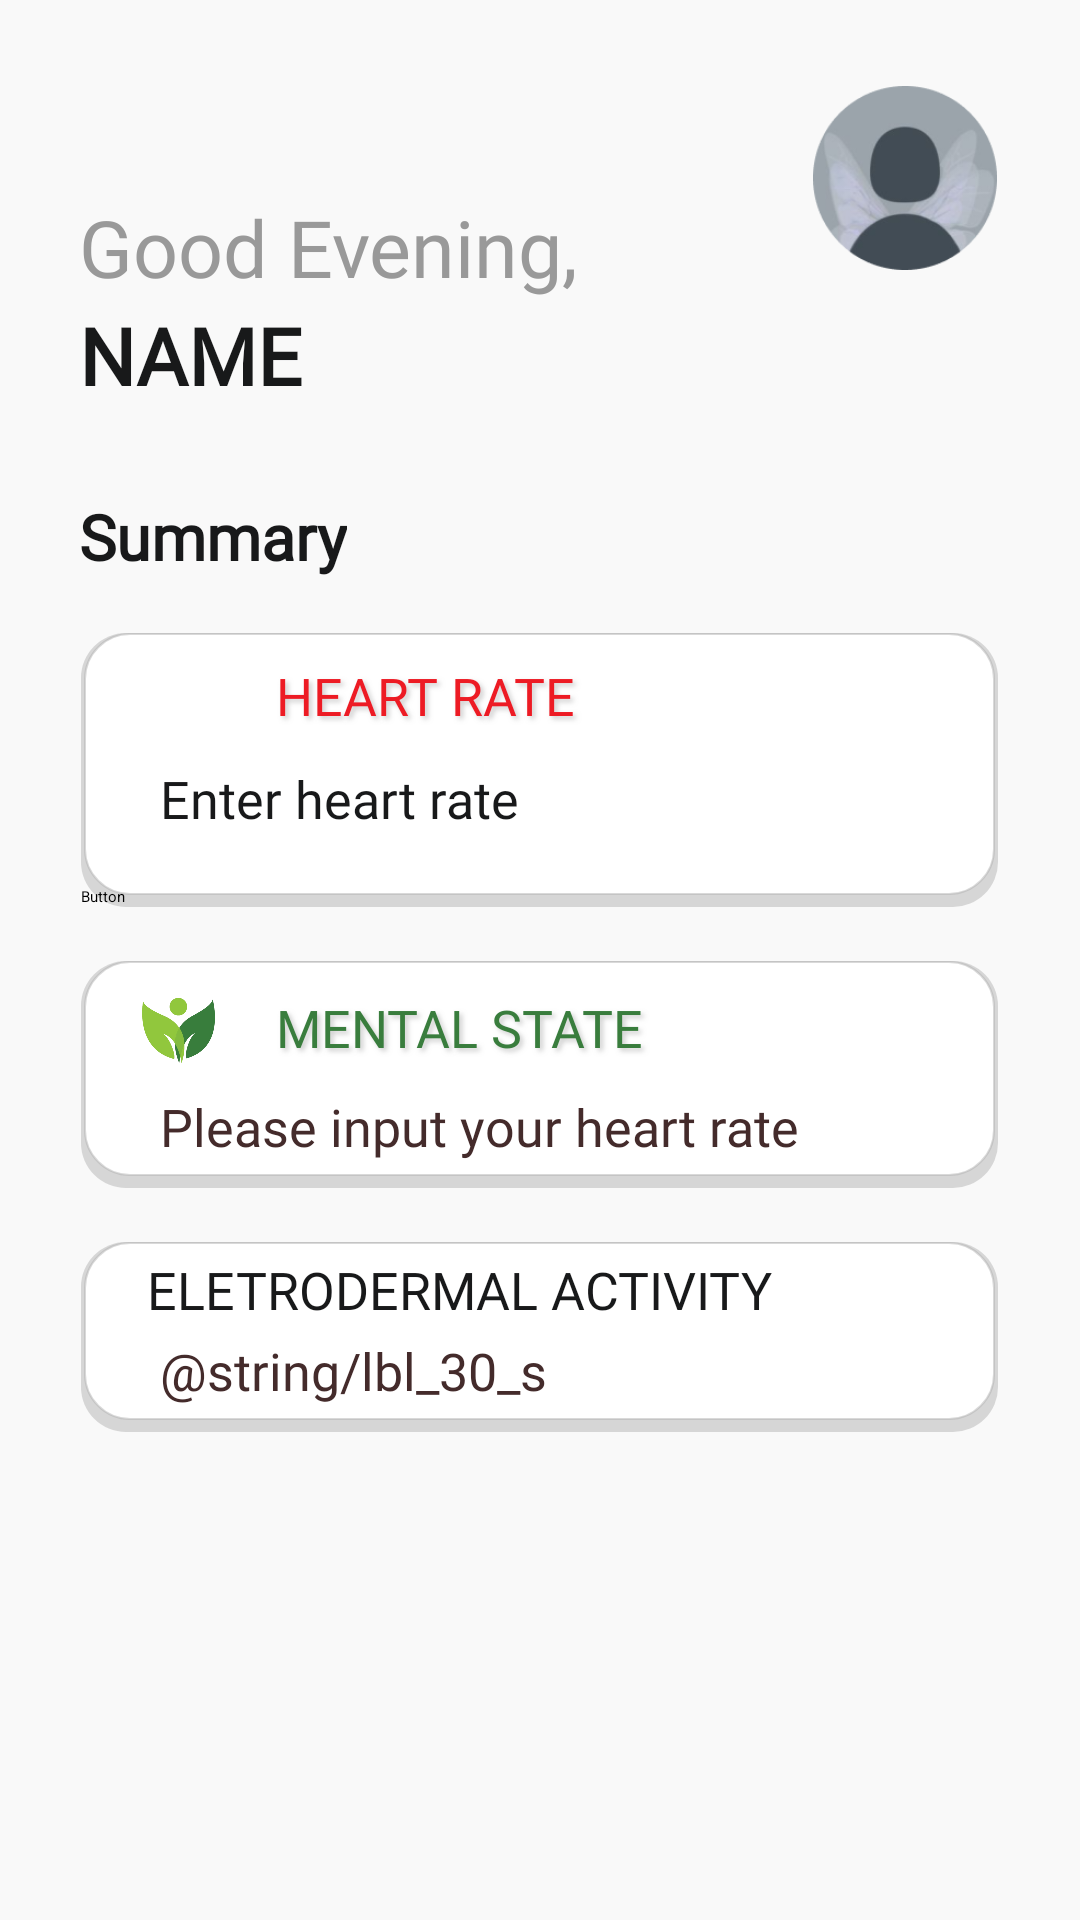

Named icons in this screenshot (1080 x 1920) and their centers, (x,y):
profilepic: (905,178)
